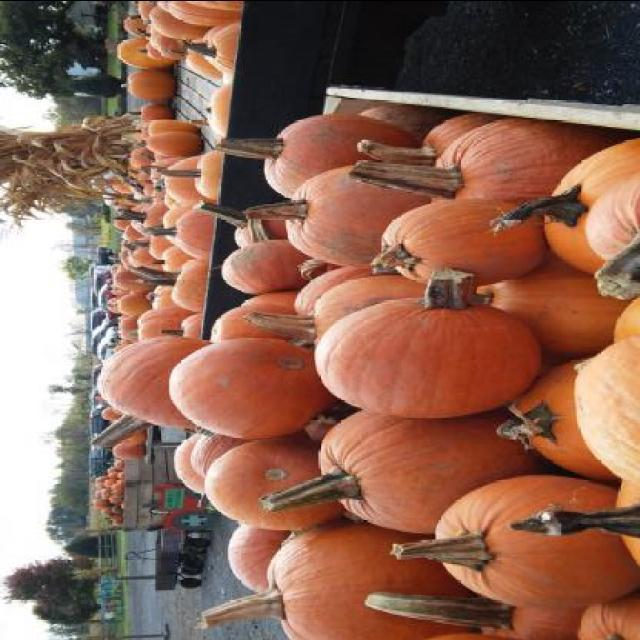Pumpkin: (90, 98, 638, 640), (96, 1, 242, 458), (308, 272, 544, 420), (90, 462, 128, 524)
